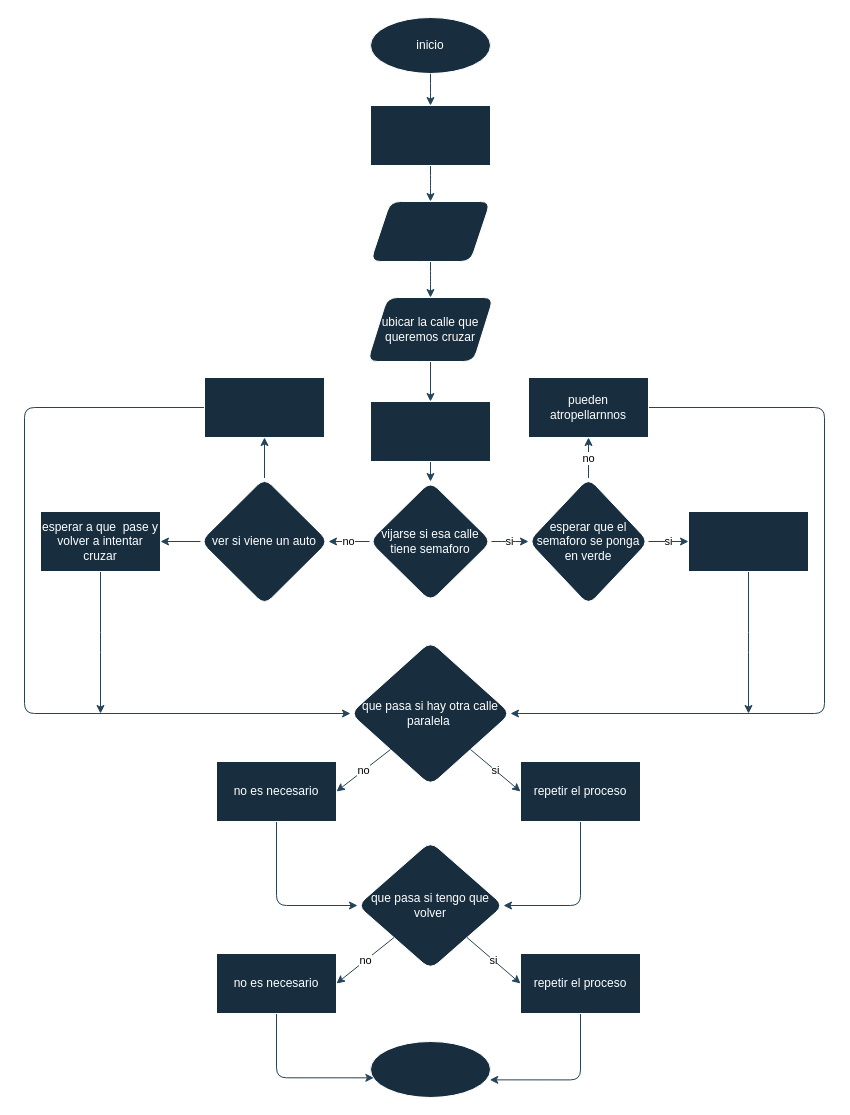
The diagram is 850 pixels wide and 1115 high, and some of its shapes have lost their labels. The centre of each missing label's shape, as x and y in pixels:
cruzar: (x=264, y=407)
cruzar la calle de forma segura: (x=430, y=135)
defnir nuestra ubicacion: (x=430, y=231)
dirigirnos hacia esa ubicacion: (x=430, y=431)
fin: (x=430, y=1069)
podremos pasar tranquilos: (x=748, y=541)
